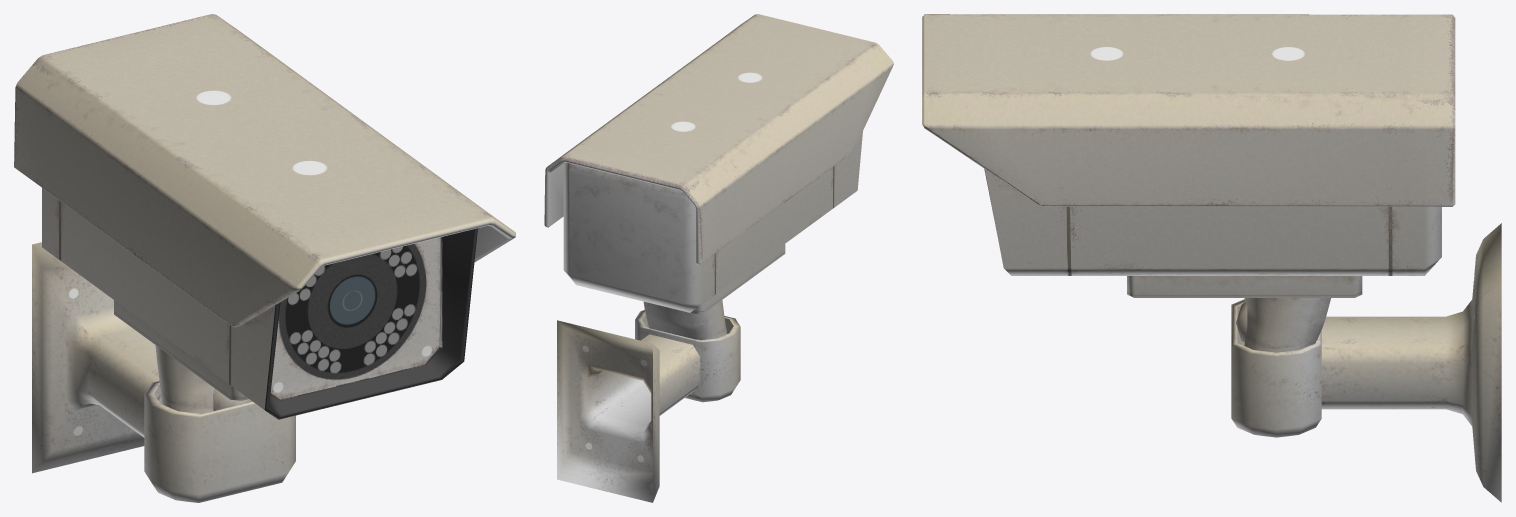
Rendered from Camera.fbx.
The picture shows the model from 3 angles, left to right: view 1: azimuth 30°, elevation 25°; view 2: azimuth 150°, elevation 25°; view 3: azimuth 270°, elevation 25°; orthographic projection. The views are drawn at different scales.
Parts seen in each view (by area): view 1: g; view 2: g; view 3: g.
Part boxes in pixels (left/top/right/bottom): g: left=14, top=14, right=515, bottom=502; g: left=544, top=14, right=893, bottom=502; g: left=922, top=14, right=1501, bottom=502.
Bounding box in the file's own units: 85.21 × 159 × 200.
